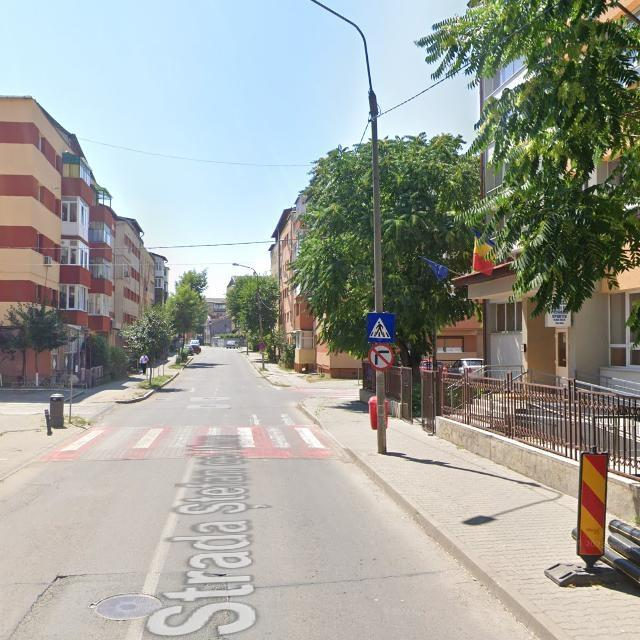info_crosswalk: (366, 312, 395, 342)
